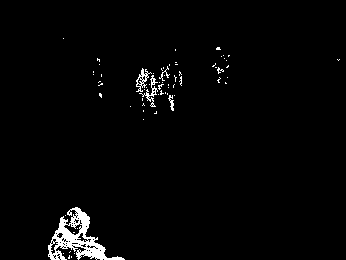person: (158, 58, 184, 112), (134, 66, 159, 117)
